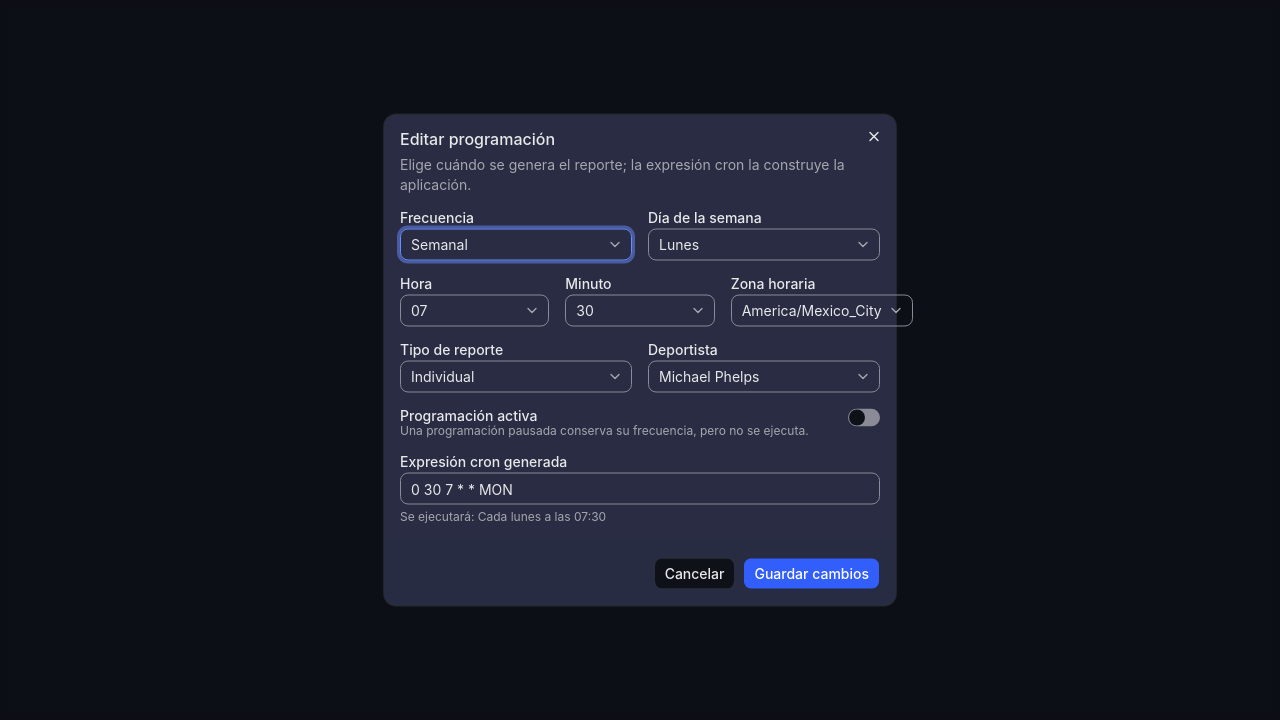
ScheduleFormDialog — editar (PUT completo, C7) › pre-carga la fila entera y hace PUT con TODOS los campos
The image size is (1280, 720).
Expected: the field with test id "schedule-cron-preview" holds "0 30 7 * * MON", [400,472,880,504]
Expected: the dropdown with test id "schedule-frequency-select" reads "Semanal", [400,228,632,260]
What coordinates should you click on to do the following:
click the button with test id "schedule-submit"
I would click on:
 (812, 574)
Its box is [744,558,880,590].
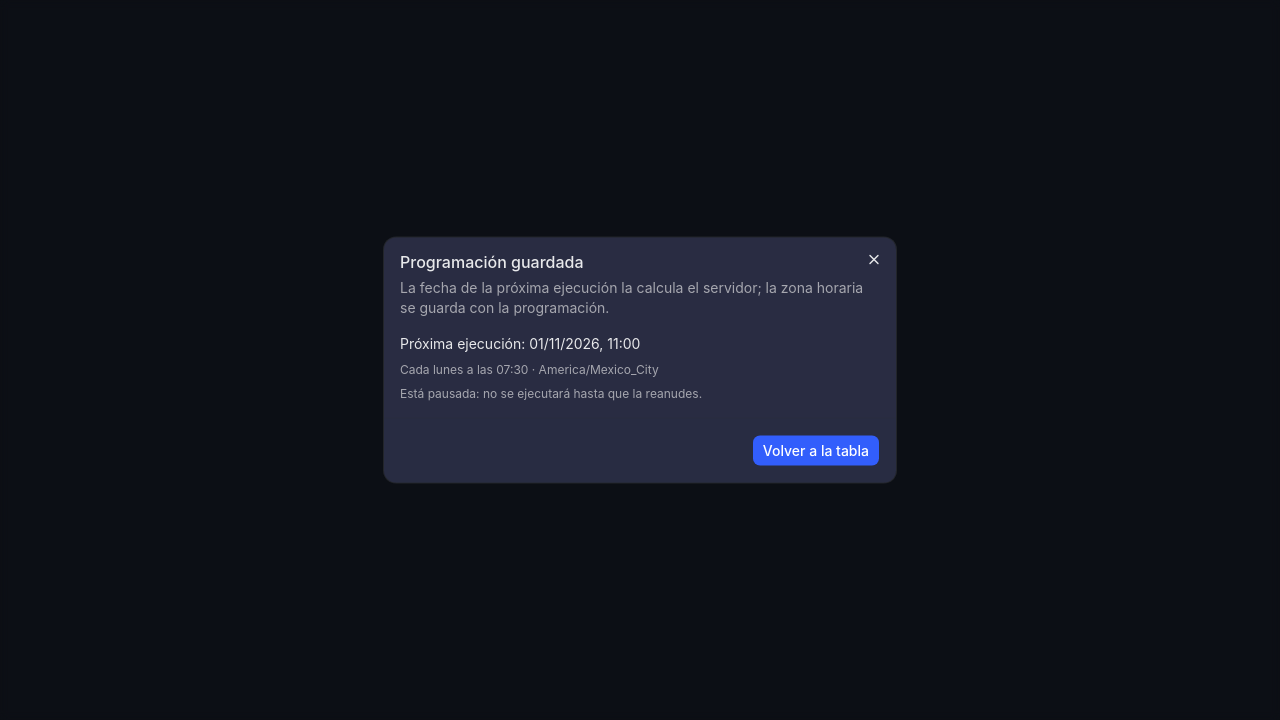
Now the text "Próxima ejecución: 01/11/2026, 11:00" is shown, box [400,334,640,352]
